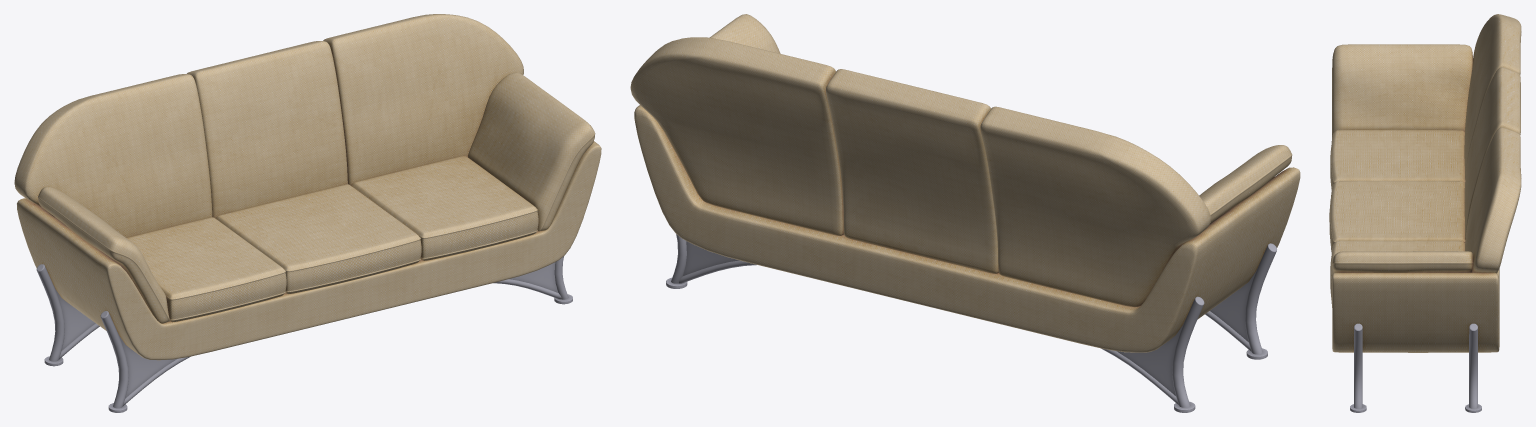
The model's file is sofa_yellow.glb.
3 views of the same model, side by side, from view 1: azimuth 30°, elevation 25°; view 2: azimuth 150°, elevation 25°; view 3: azimuth 270°, elevation 25° (orthographic). The views are drawn at different scales.
Visible parts, largest first — view 1: Cube.011; view 2: Cube.011; view 3: Cube.011.
Boxes of the visible parts, box(x1,y1,x2,y2) form: Cube.011: box(14, 14, 601, 412); Cube.011: box(630, 14, 1300, 412); Cube.011: box(1329, 14, 1521, 412).
Size of the model in its own units: 2.03 by 0.9324 by 0.7495.
Materials: 1 (1 with a texture image).
